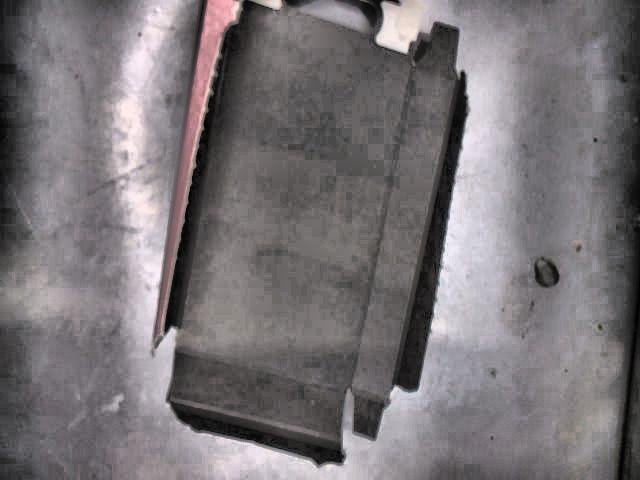Paper: (150, 0, 469, 467)
